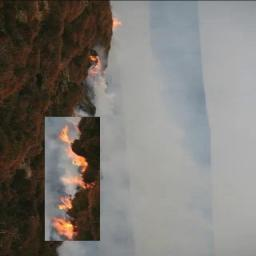Medium fire: (48, 127, 91, 240)
Small fire: (83, 46, 110, 83), (111, 12, 124, 33)
